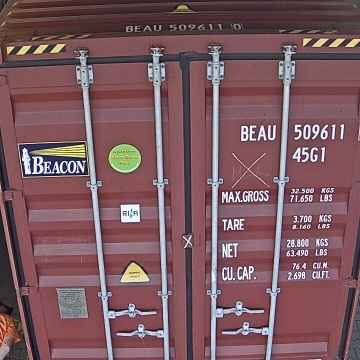serial_id: (241, 123, 360, 140)
